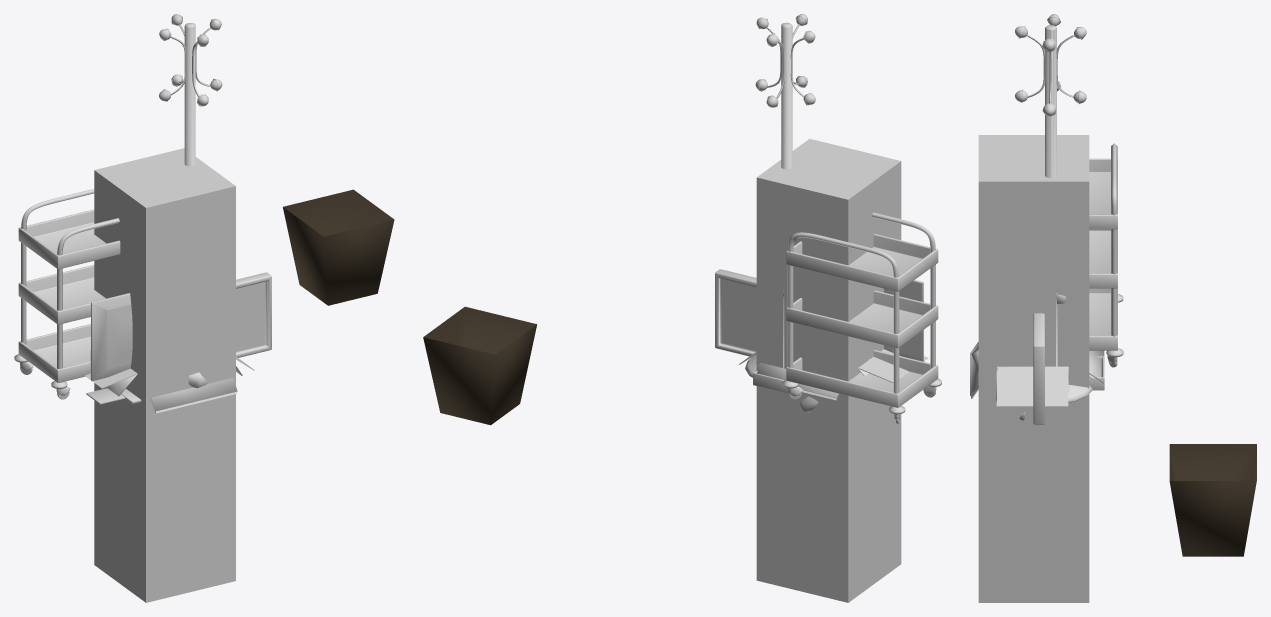
The model's file is Props.fbx.
The picture shows the model from 3 angles, left to right: view 1: azimuth 30°, elevation 25°; view 2: azimuth 150°, elevation 25°; view 3: azimuth 270°, elevation 25°; orthographic projection. The views are drawn at different scales.
Visible parts, largest first — view 1: SueroPalo, Trolley, Bin, Computer, RackCoat, OptometricPanel, CardboardBox.001, CardboardBox; view 2: SueroPalo, Trolley, Bin, OptometricPanel, RackCoat, Computer, CardboardBox; view 3: SueroPalo, Bin, Trolley, RackCoat, CardboardBox, OptometricPanel, CardboardBox.001.
Part boxes in pixels (box(x1,y1,x2,y2)): SueroPalo: box(94, 148, 235, 602); Trolley: box(14, 189, 120, 399); Bin: box(283, 189, 394, 305); Computer: box(90, 293, 141, 403); RackCoat: box(159, 14, 222, 166); OptometricPanel: box(236, 272, 271, 357); CardboardBox.001: box(106, 366, 242, 411); CardboardBox: box(68, 354, 254, 413); SueroPalo: box(756, 138, 901, 602); Trolley: box(782, 212, 941, 423); Bin: box(423, 306, 536, 425); OptometricPanel: box(715, 269, 756, 356); RackCoat: box(745, 14, 815, 377); Computer: box(884, 280, 923, 361); CardboardBox: box(739, 349, 928, 400); SueroPalo: box(978, 135, 1089, 602); Bin: box(1169, 444, 1256, 556); Trolley: box(1089, 143, 1123, 367); RackCoat: box(1015, 14, 1092, 402); CardboardBox: box(971, 367, 1102, 406); OptometricPanel: box(1033, 313, 1044, 424); CardboardBox.001: box(970, 341, 1104, 401).
Size of the model in its own units: 2.25 by 2.84 by 1.3.
